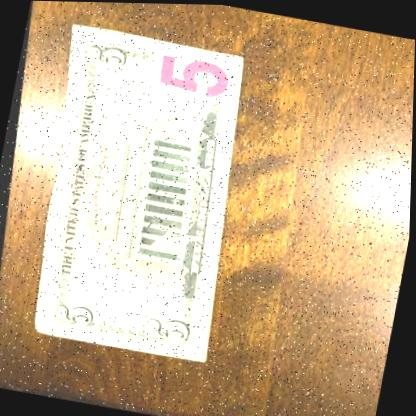dollar_back: (12, 20, 261, 363)
